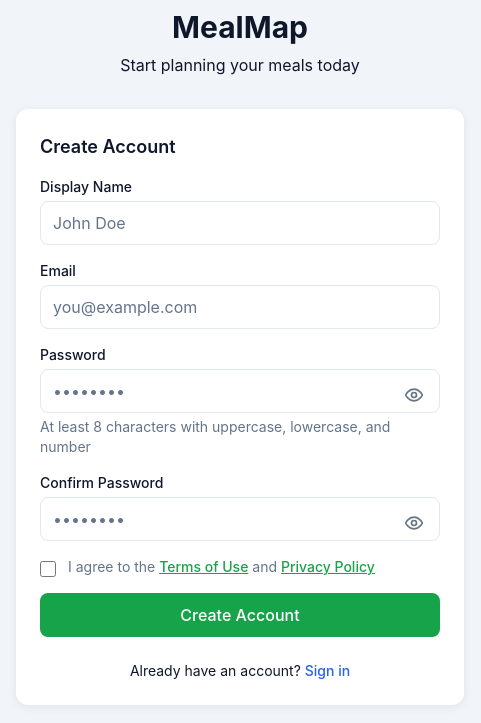
Test case: RegisterPage › submits form with valid data and shows success message
Step 1. Type "Test User" into the field labelled "Display Name" → (240, 223), box [40,201,440,245]
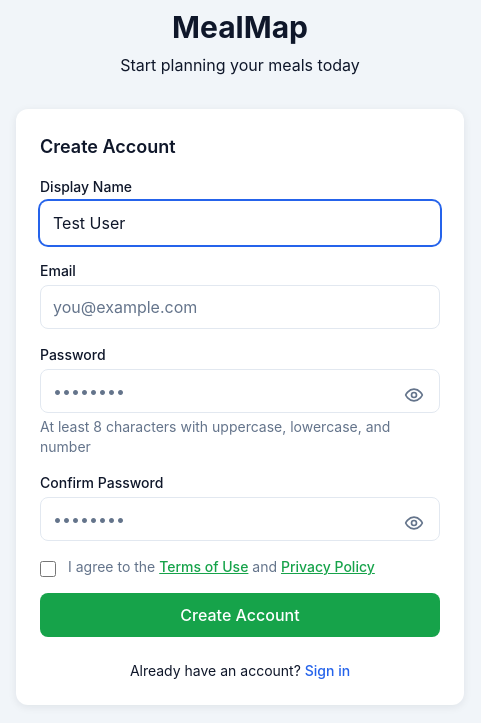
Step 2. Type "test@example.com" into the field labelled "Email" → (240, 307), box [40,285,440,329]
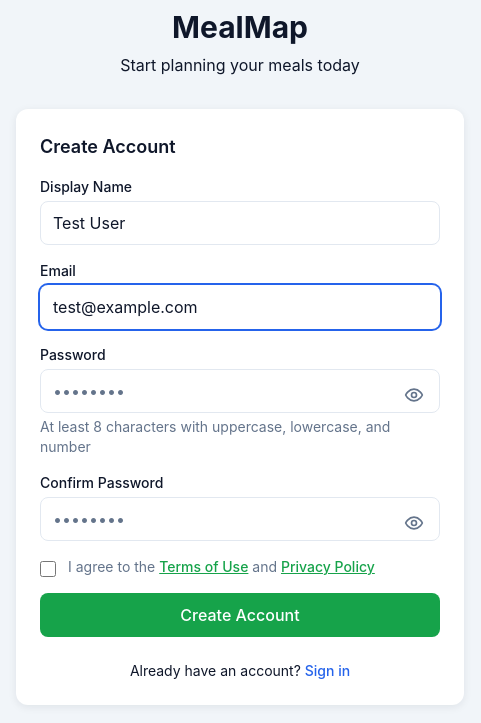
Step 3. Type "Password123" into the password field labelled "Password" → (240, 391), box [40,369,440,413]
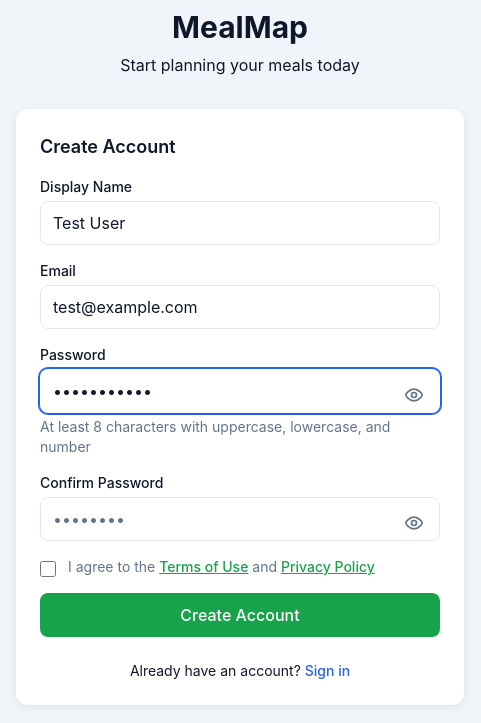
Step 4. Type "Password123" into the password field labelled "Confirm Password" → (240, 519), box [40,497,440,541]
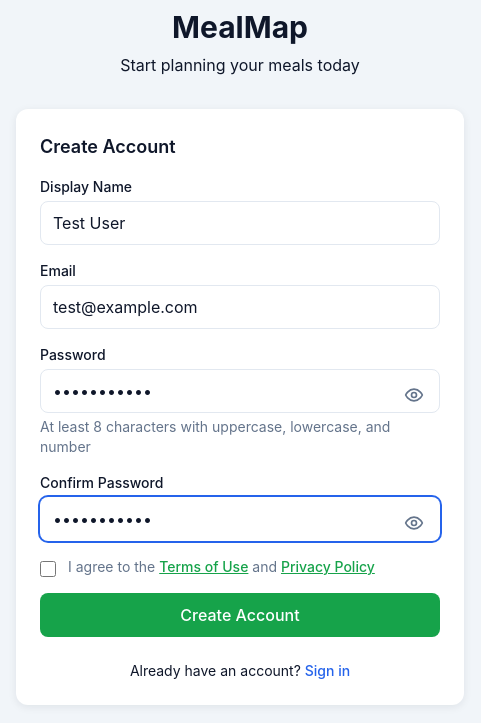
Step 5. Click the checkbox labelled "I agree to the Terms of Use and Privacy Policy" → click(48, 569), box [40,561,56,577]
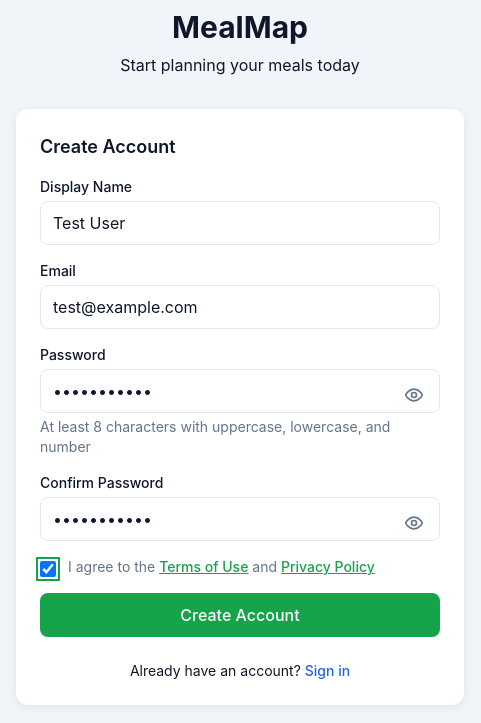
Step 6. Click the button "Create Account" → click(240, 615), box [40,593,440,637]
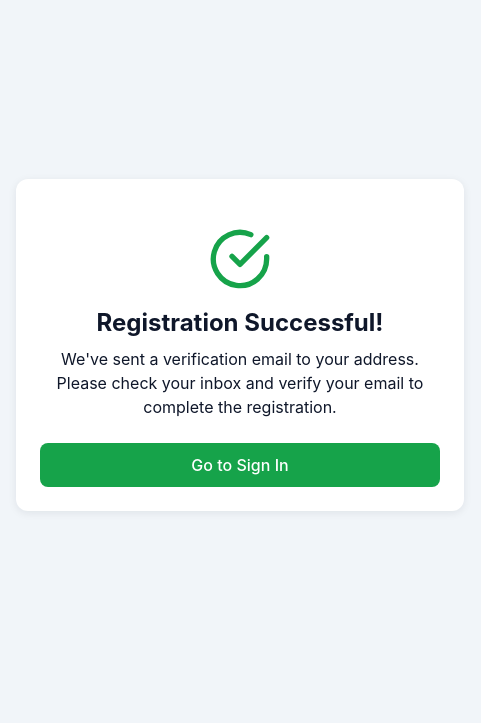
Expected: the heading "Registration Successful!" is shown, [97,308,384,337]
Expected: the text "verify your email" is shown, [57,349,423,417]
